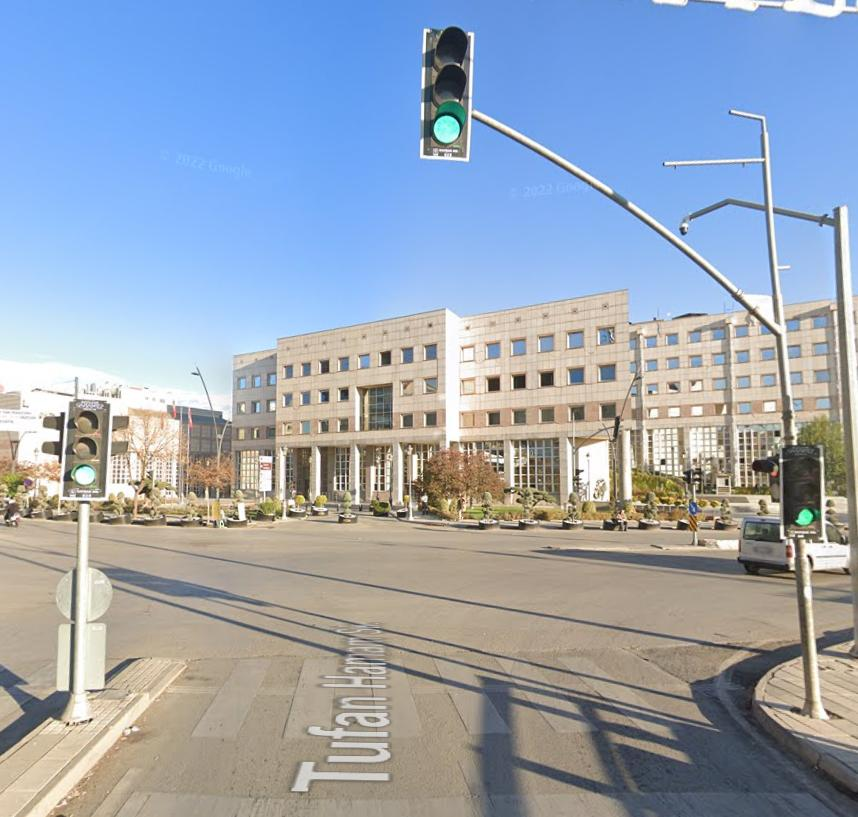greenlight: (420, 25, 472, 164), (777, 435, 822, 535), (65, 399, 109, 497)
